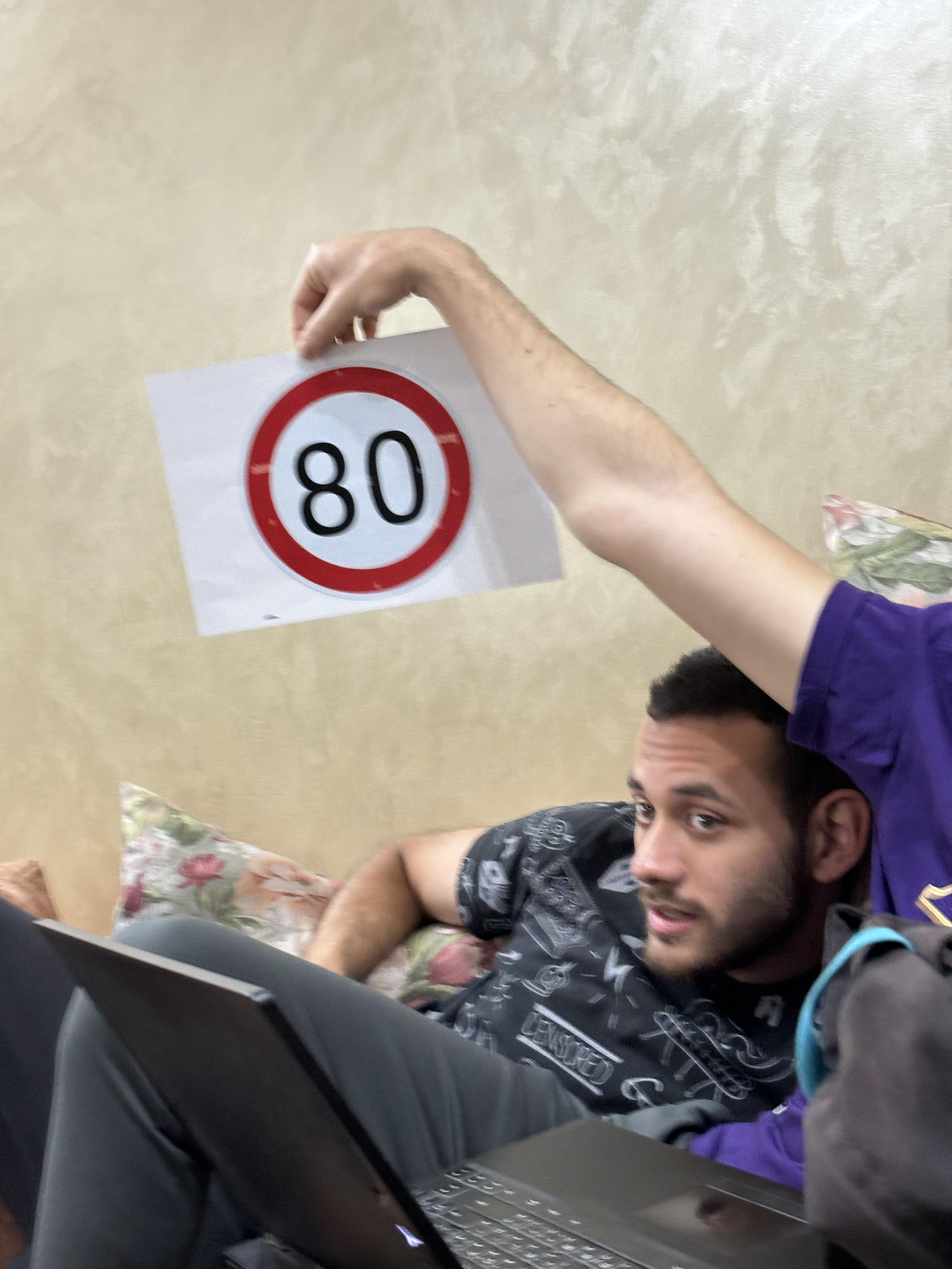80-Speed: (243, 359, 478, 593)
